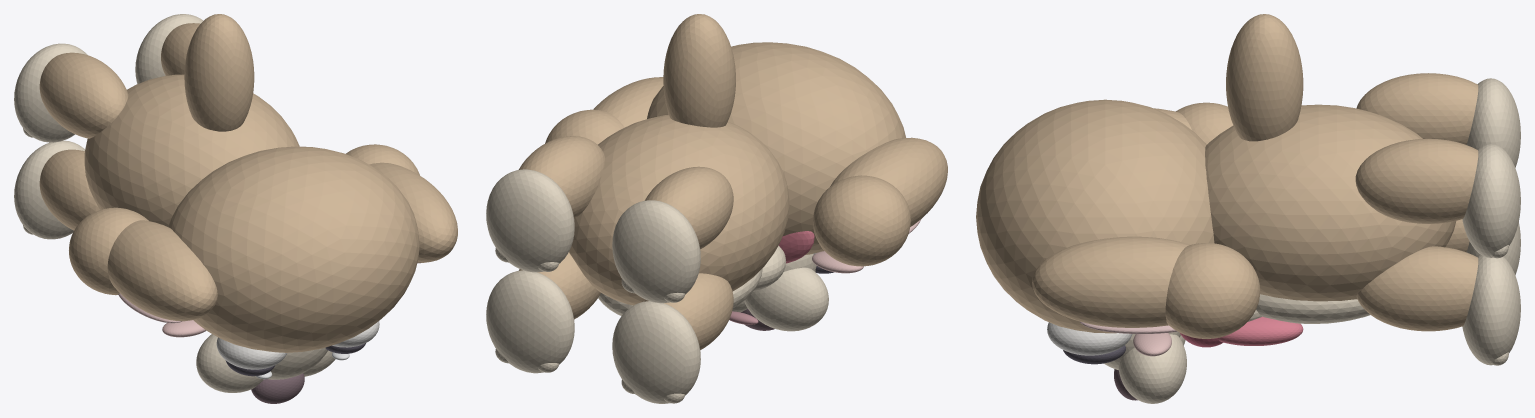
The model's file is dog-01.glb.
3 renders of one model, left to right at view 1: azimuth 30°, elevation 25°; view 2: azimuth 150°, elevation 25°; view 3: azimuth 270°, elevation 25°, orthographic. The views are drawn at different scales.
Visible parts, largest first — view 1: head, body, longEarL, tail, legBodybackL, longEarR, earEndL, legBodyfrontL, pawbackL, pawfrontL, muzzlePuffL, pawbackR (+7 smaller); view 2: body, head, earEndL, pawbackR, pawbackL, pawfrontL, pawfrontR, tail, longEarL, legBodybackL, muzzlePuffL, legBodybackR (+8 smaller); view 3: head, body, longEarR, legBodybackR, tail, legBodyfrontR, earEndR, legBodybackL, pawbackR, pawfrontR, muzzlePuffR, pawbackL (+8 smaller).
Boxes of the visible parts, left/top/right/bottom form: head: left=168, top=146, right=419, bottom=352; body: left=84, top=74, right=299, bottom=226; longEarL: left=107, top=220, right=217, bottom=321; tail: left=184, top=14, right=254, bottom=131; legBodybackL: left=39, top=52, right=128, bottom=138; longEarR: left=369, top=162, right=457, bottom=262; earEndL: left=69, top=207, right=148, bottom=295; legBodyfrontL: left=39, top=149, right=99, bottom=230; pawbackL: left=14, top=43, right=87, bottom=142; pawfrontL: left=14, top=140, right=85, bottom=239; muzzlePuffL: left=196, top=334, right=263, bottom=392; pawbackR: left=135, top=14, right=203, bottom=83; body: left=569, top=114, right=789, bottom=305; head: left=647, top=42, right=905, bottom=254; earEndL: left=813, top=175, right=910, bottom=266; pawbackR: left=486, top=169, right=574, bottom=272; pawbackL: left=612, top=200, right=700, bottom=303; pawfrontL: left=612, top=301, right=700, bottom=403; pawfrontR: left=486, top=270, right=574, bottom=373; tail: left=663, top=14, right=735, bottom=127; longEarL: left=830, top=137, right=947, bottom=226; legBodybackL: left=645, top=166, right=733, bottom=249; muzzlePuffL: left=744, top=267, right=828, bottom=331; legBodybackR: left=518, top=136, right=604, bottom=218; head: left=976, top=99, right=1214, bottom=333; body: left=1205, top=104, right=1456, bottom=301; longEarR: left=1032, top=236, right=1190, bottom=327; legBodybackR: left=1355, top=138, right=1478, bottom=223; tail: left=1226, top=14, right=1303, bottom=141; legBodyfrontR: left=1356, top=246, right=1478, bottom=331; earEndR: left=1165, top=243, right=1260, bottom=338; legBodybackL: left=1356, top=73, right=1478, bottom=144; pawbackR: left=1462, top=144, right=1520, bottom=257; pawfrontR: left=1462, top=255, right=1520, bottom=365; muzzlePuffR: left=1118, top=334, right=1186, bottom=403; pawbackL: left=1466, top=78, right=1520, bottom=167.
Bounding box in the file's own units: 2.02 × 1.95 × 2.53.
